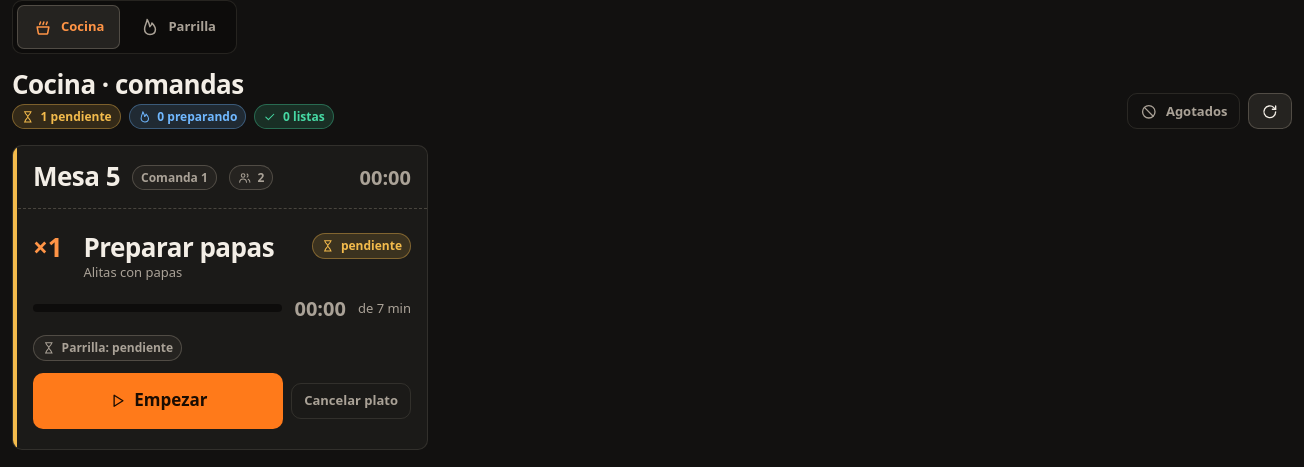
tablero de preparación por tareas › el administrador puede alternar entre ambos tableros
Expected: the button "Cocina" is shown, 17,5 -> 120,49
Click the button "Parrilla" at (178, 27), box 124,5 -> 232,49
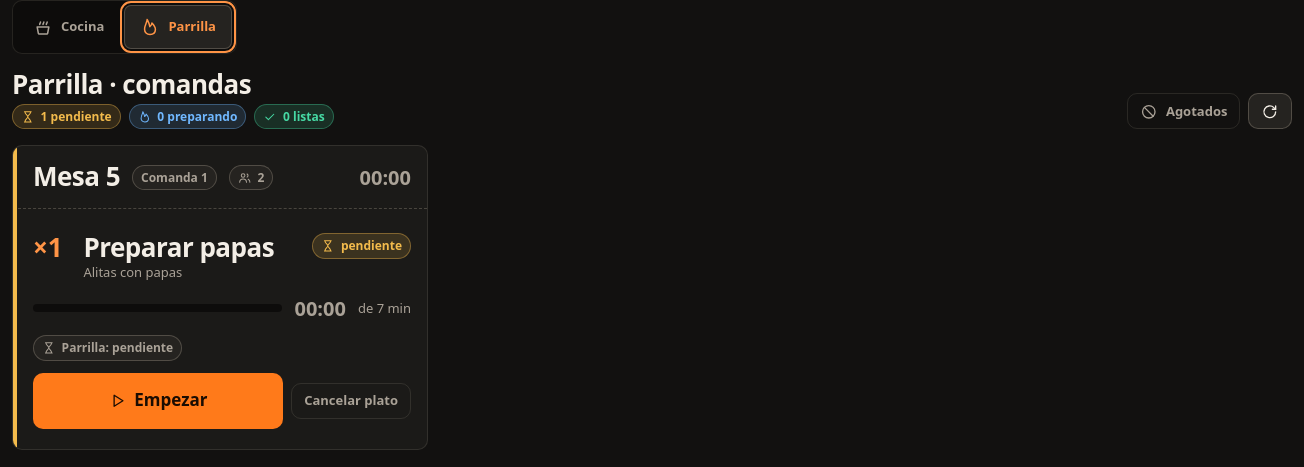
Expected: the heading "Parrilla · comandas" is shown, 12,66 -> 251,102
